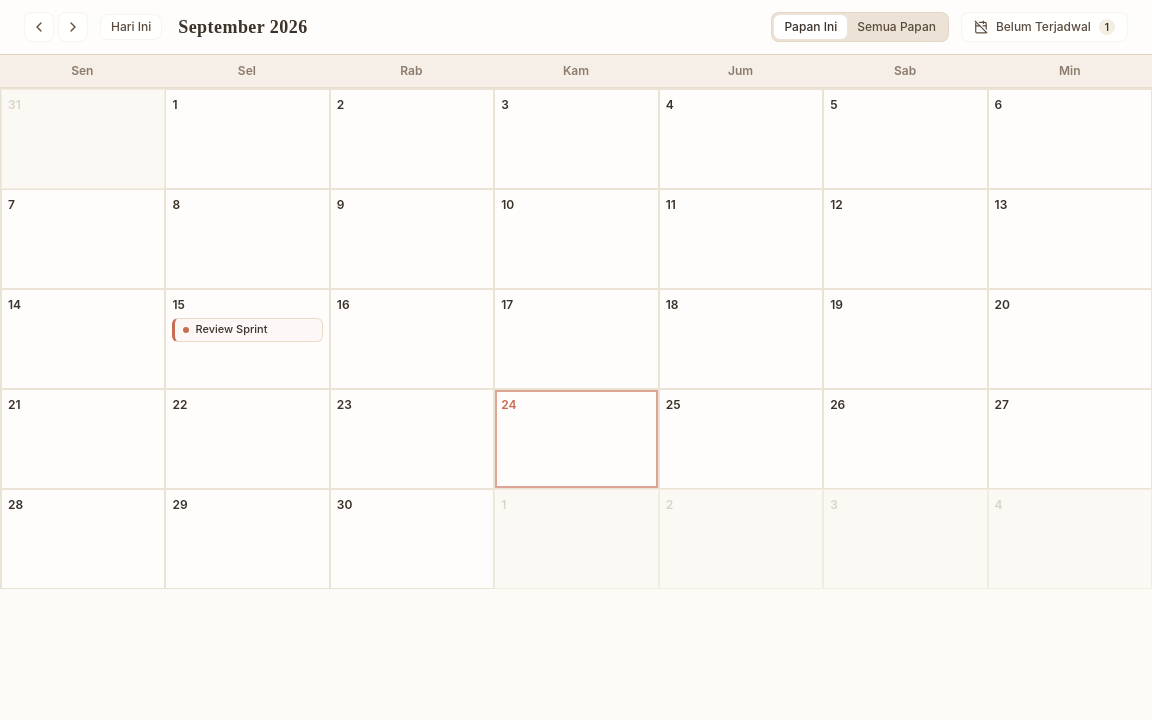
Test case: CalendarView Component › toggles scope between current board and all boards
Expected: the text "Task Papan Sebelah" is not shown
// Switch to Semua Papan
Step 1. Click the button "Semua Papan" → (897, 27), box [847,15,946,39]
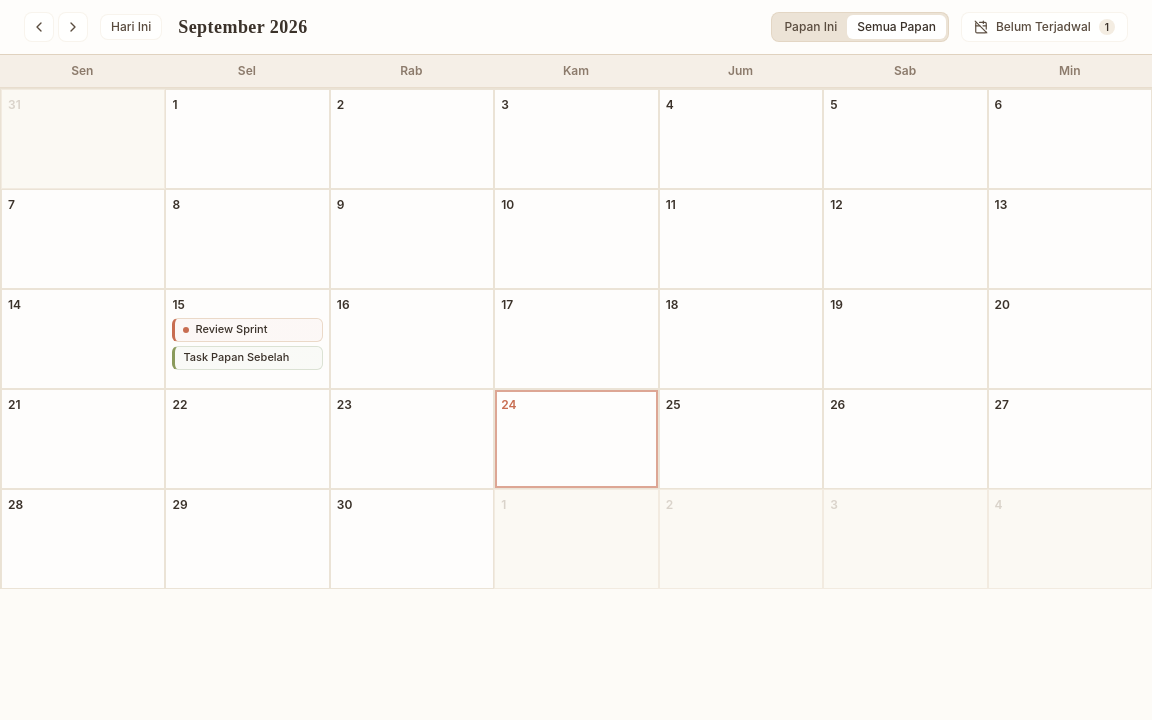
Now the text "Task Papan Sebelah" is shown, box [183,350,290,364]
// Switch back to Papan Ini
Step 2. Click the button "Papan Ini" → (811, 27), box [774,15,847,39]
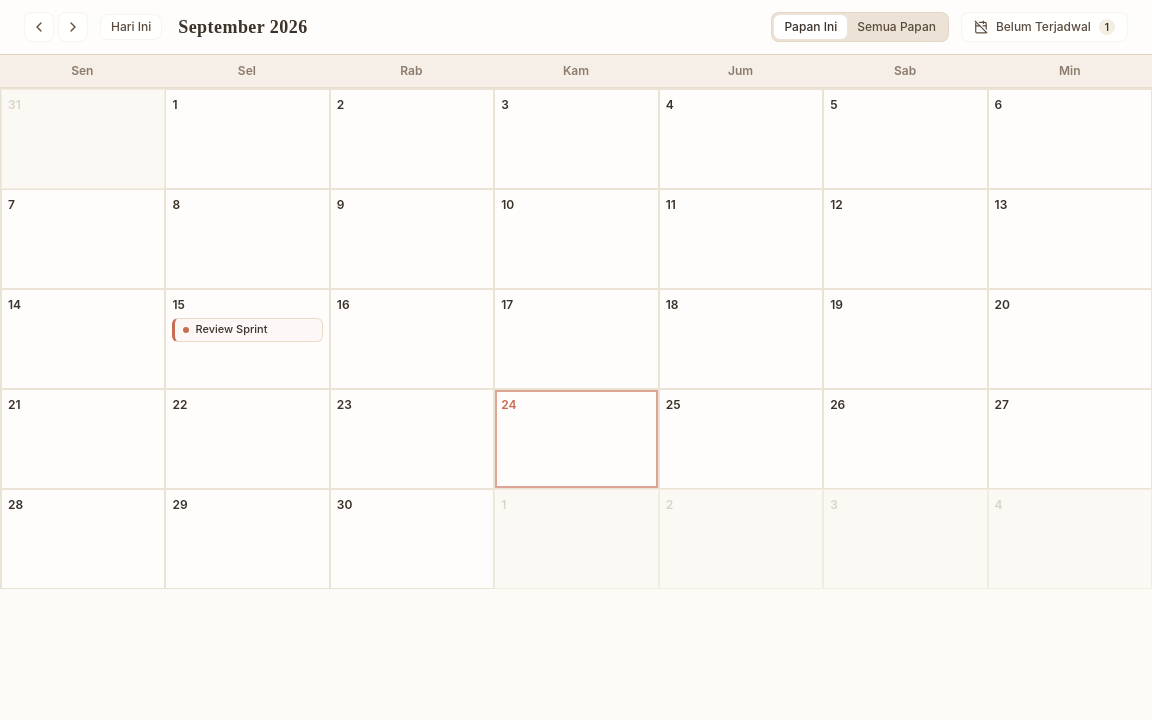
Now the text "Task Papan Sebelah" is gone
